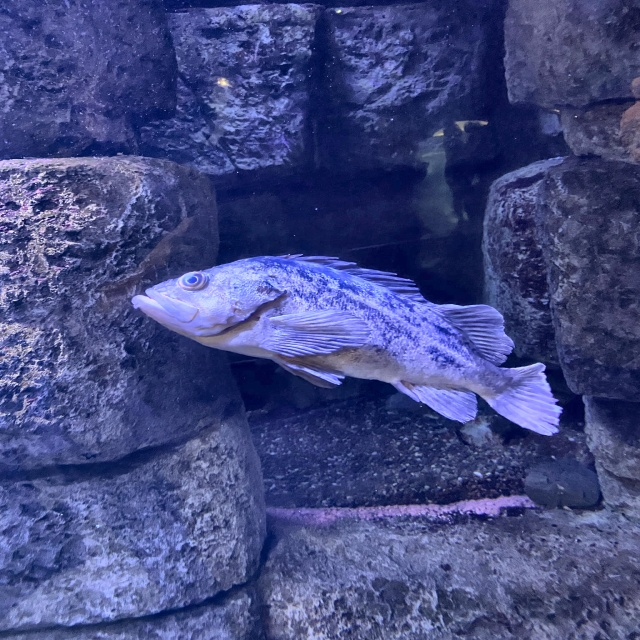fish: (130, 239, 572, 430)
